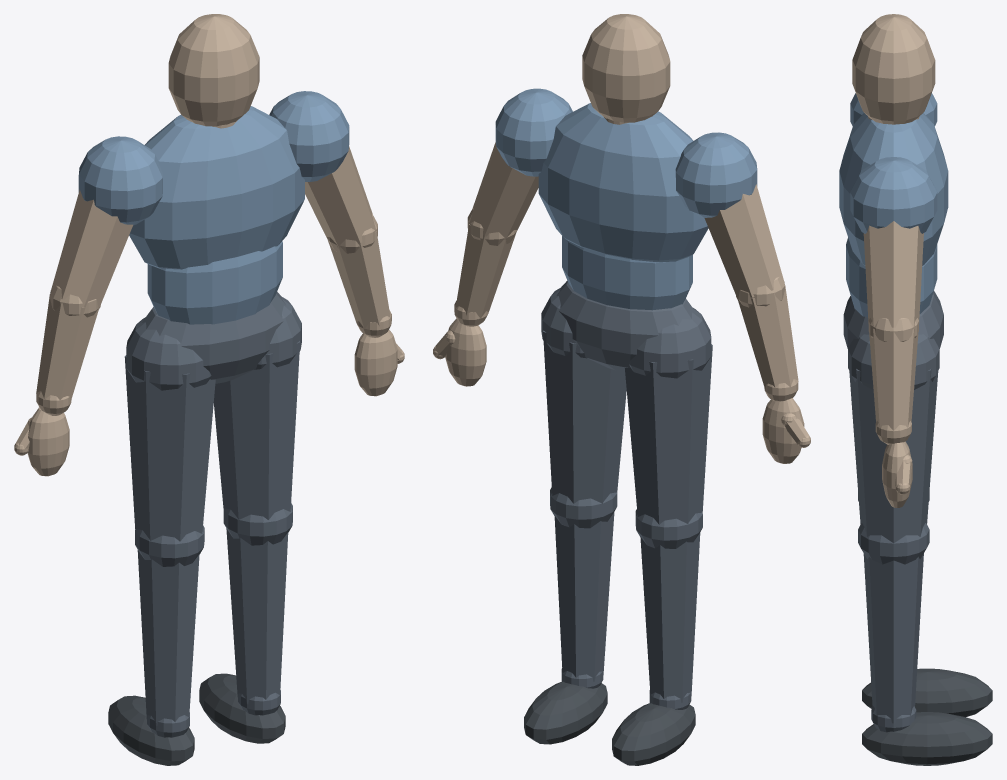
The model's file is man.glb.
The picture shows the model from 3 angles, left to right: view 1: azimuth 30°, elevation 25°; view 2: azimuth 150°, elevation 25°; view 3: azimuth 270°, elevation 25°; orthographic projection. The views are drawn at different scales.
Visible parts, largest first — view 1: Body, Shirt; view 2: Body, Shirt; view 3: Body, Shirt.
Part boxes in pixels (x1,y1,x2,y2): Body: [14, 14, 404, 765]; Shirt: [78, 91, 349, 324]; Body: [433, 14, 810, 765]; Shirt: [495, 88, 757, 310]; Body: [843, 14, 992, 765]; Shirt: [839, 93, 948, 317].
Size of the model in its own units: 0.9831 by 1.79 by 0.3431.
